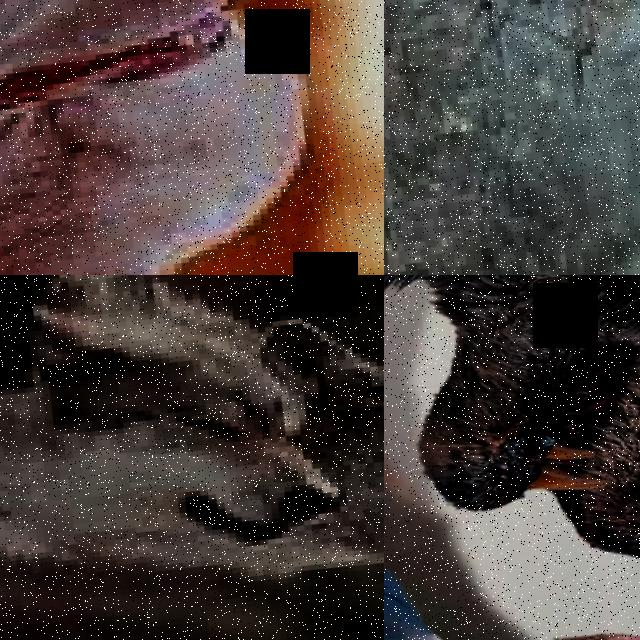dog: (0, 0, 384, 275)
wolf: (0, 275, 384, 640), (384, 275, 640, 640), (384, 0, 640, 275), (0, 275, 220, 501), (0, 453, 235, 640), (292, 367, 384, 638)
